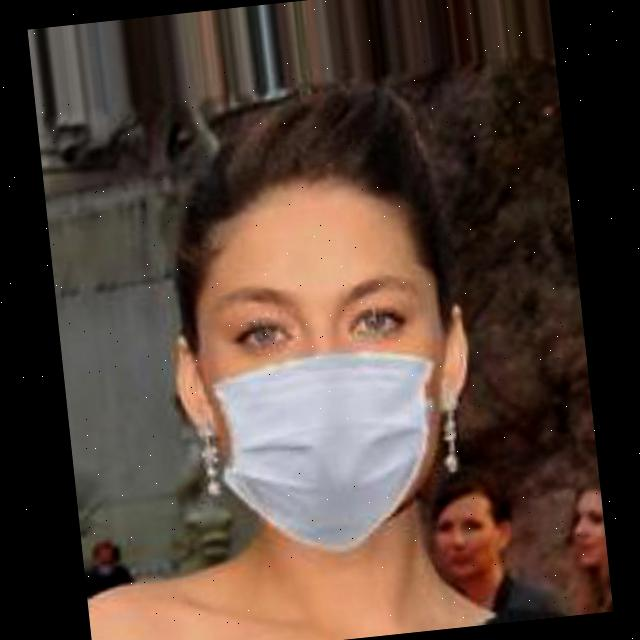suspicion: (115, 84, 551, 554)
